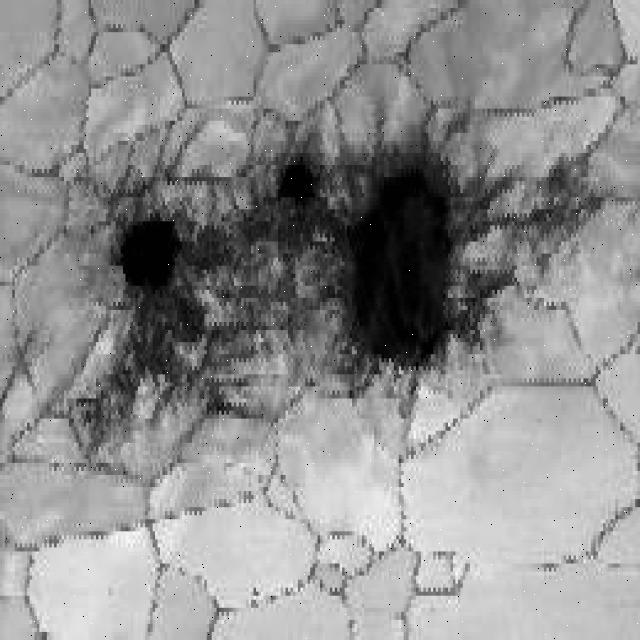good_void: (73, 93, 606, 473)
